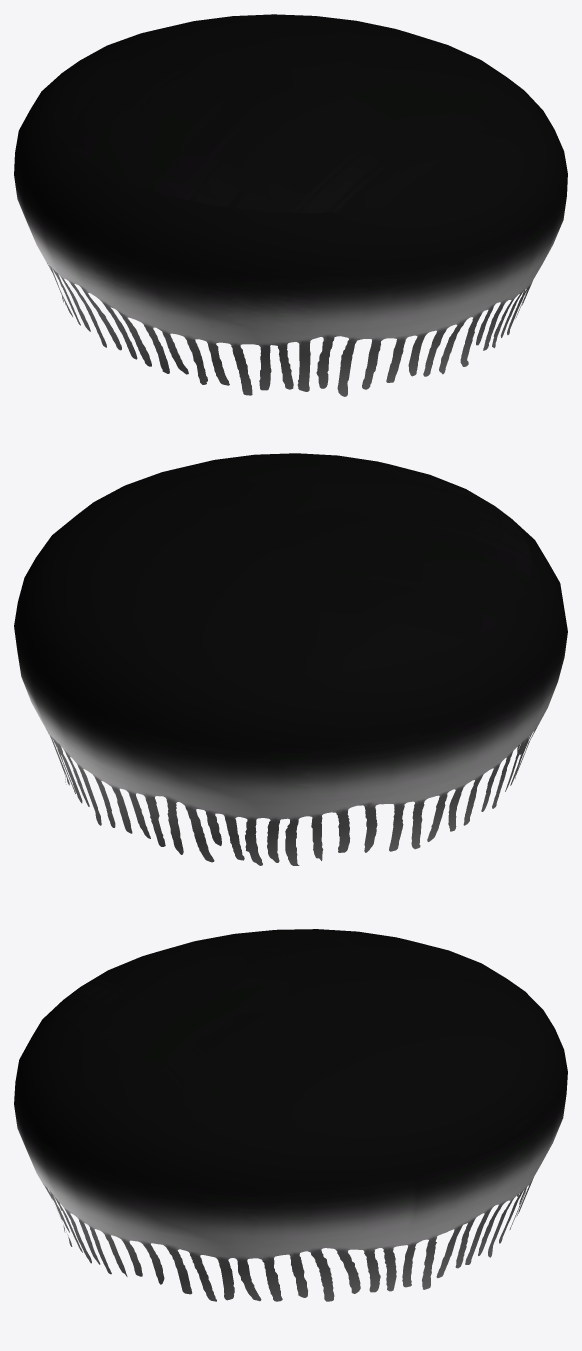
File: moonjelly.fbx
The picture shows the model from 3 angles, top to bottom: view 1: azimuth 30°, elevation 25°; view 2: azimuth 150°, elevation 25°; view 3: azimuth 270°, elevation 25°; orthographic projection. The views are drawn at different scales.
Parts seen in each view (by area): view 1: JellyOuter; view 2: JellyOuter; view 3: JellyOuter.
Boxes of the visible parts, <box> form: JellyOuter: <box>14,14,567,396</box>; JellyOuter: <box>14,453,567,865</box>; JellyOuter: <box>14,929,567,1301</box>.
Size of what is drawn, in the model's own units: 880 by 483 by 920.
